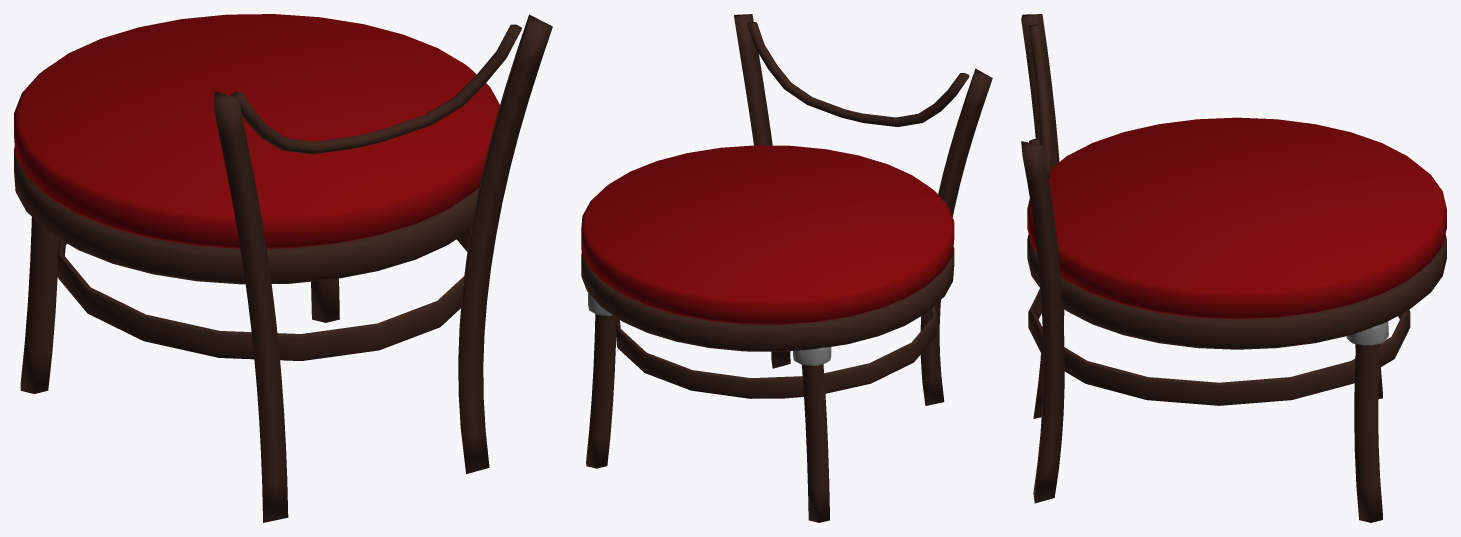
The model's file is sillaMocha.fbx.
The picture shows the model from 3 angles, left to right: view 1: azimuth 30°, elevation 25°; view 2: azimuth 150°, elevation 25°; view 3: azimuth 270°, elevation 25°; orthographic projection. The views are drawn at different scales.
Parts seen in each view (by area): view 1: Cylinder.013, NurbsPath.004, Cylinder.010, Cylinder.011, NurbsPath.009, NurbsPath.006; view 2: Cylinder.013, Cylinder.010, NurbsPath.004, NurbsPath.009, Cylinder.011, NurbsPath.006, Cylinder.012; view 3: Cylinder.013, Cylinder.010, NurbsPath.004, Cylinder.011, NurbsPath.009, NurbsPath.006, Cylinder.012.
Part boxes in pixels (x1=…): Cylinder.013: x1=14, y1=14, x2=499, y2=248; NurbsPath.004: x1=214, y1=14, x2=552, y2=522; Cylinder.010: x1=14, y1=147, x2=478, y2=284; Cylinder.011: x1=57, y1=229, x2=470, y2=360; NurbsPath.009: x1=20, y1=217, x2=339, y2=393; NurbsPath.006: x1=231, y1=24, x2=521, y2=154; Cylinder.013: x1=581, y1=145, x2=954, y2=324; Cylinder.010: x1=581, y1=247, x2=954, y2=351; NurbsPath.004: x1=734, y1=14, x2=992, y2=405; NurbsPath.009: x1=586, y1=314, x2=829, y2=522; Cylinder.011: x1=616, y1=305, x2=936, y2=398; NurbsPath.006: x1=747, y1=22, x2=969, y2=126; Cylinder.012: x1=588, y1=293, x2=831, y2=365; Cylinder.013: x1=1027, y1=117, x2=1446, y2=319; Cylinder.010: x1=1027, y1=234, x2=1446, y2=349; NurbsPath.004: x1=1021, y1=14, x2=1064, y2=503; Cylinder.011: x1=1028, y1=288, x2=1410, y2=405; NurbsPath.009: x1=1354, y1=344, x2=1382, y2=522; NurbsPath.006: x1=1028, y1=24, x2=1050, y2=178; Cylinder.012: x1=1346, y1=321, x2=1388, y2=345.
Bounding box in the file's own units: 120 × 119 × 122.
